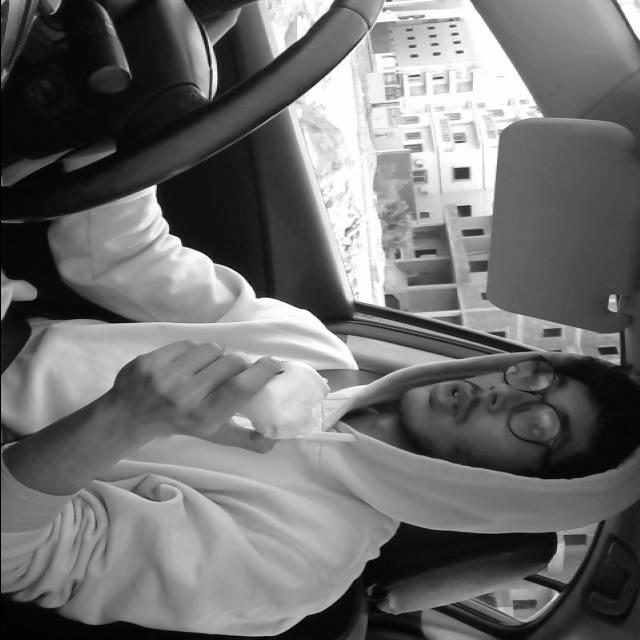eating: (235, 358, 326, 439)
